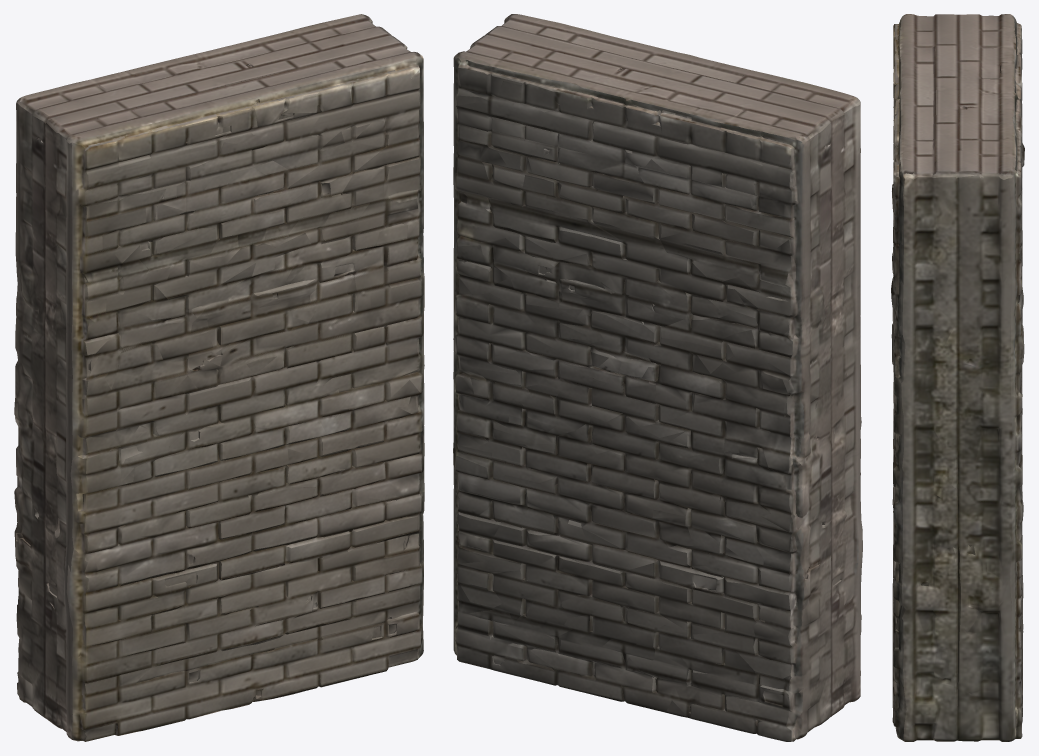
File: wall-panel_textured.glb
3 views of the same model, side by side, from view 1: azimuth 30°, elevation 25°; view 2: azimuth 150°, elevation 25°; view 3: azimuth 270°, elevation 25° (orthographic). The views are drawn at different scales.
Visible parts, largest first — view 1: geometry_0; view 2: geometry_0; view 3: geometry_0.
Part boxes in pixels (x1,y1,x2,y2): geometry_0: (14, 14, 424, 741); geometry_0: (453, 14, 862, 741); geometry_0: (891, 14, 1024, 741).
Bounding box in the file's own units: 1.2 × 1.93 × 0.4106.
Materials: 1 (1 with a texture image).
